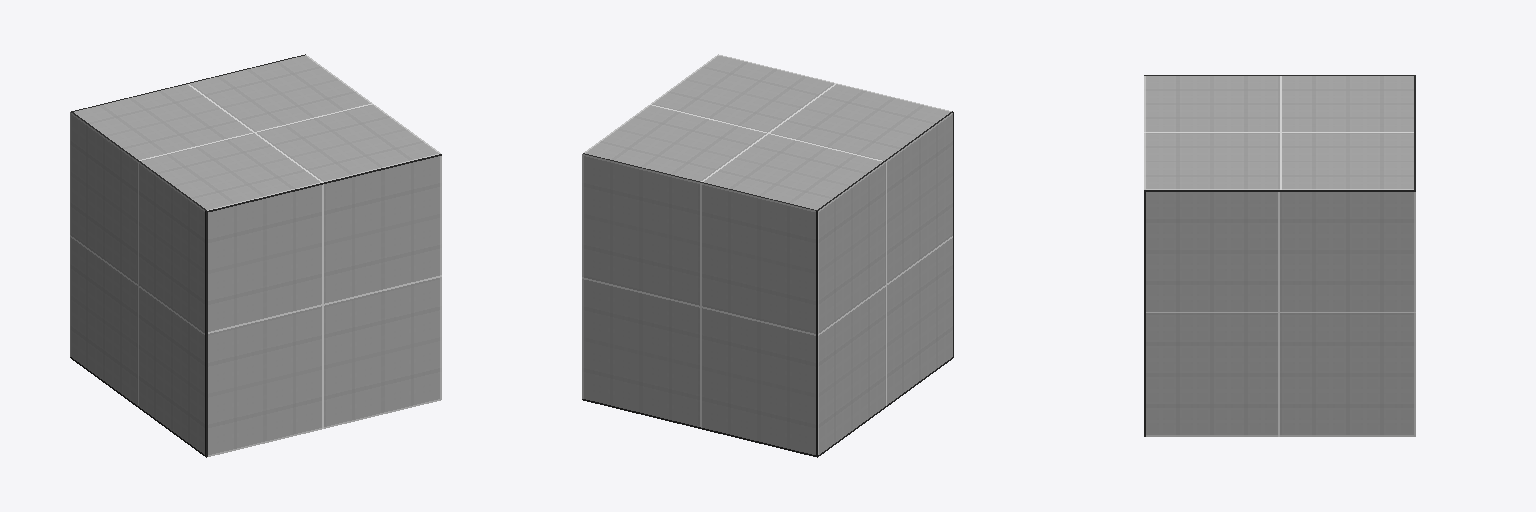
3 views of the same model, side by side, from view 1: azimuth 30°, elevation 25°; view 2: azimuth 150°, elevation 25°; view 3: azimuth 270°, elevation 25° (orthographic).
Parts seen in each view (by area): view 1: Cube; view 2: Cube; view 3: Cube.
Part boxes in pixels (x1,y1,x2,y2): Cube: (70, 54, 441, 457); Cube: (582, 54, 953, 457); Cube: (1144, 75, 1415, 436).
Bounding box in the file's own units: 16 × 16 × 16.
1 materials, 1 textured.